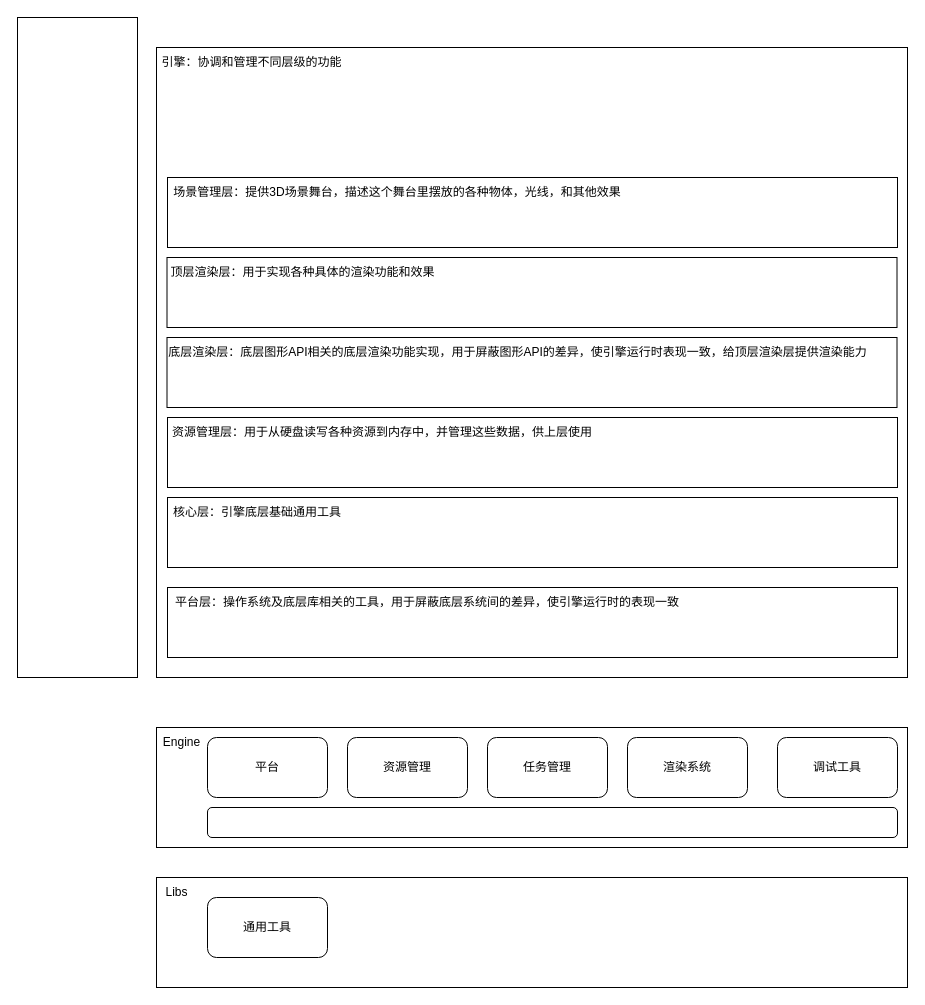
Image size: 925x1005. Some labels were removed from this diagram. The shapes that lost their labels are listed below. From the top down, each one's box as (x1, y1, x2, y2) in pixels, then its label:
(16, 16, 138, 678): 第三方库
(206, 806, 898, 838): core
